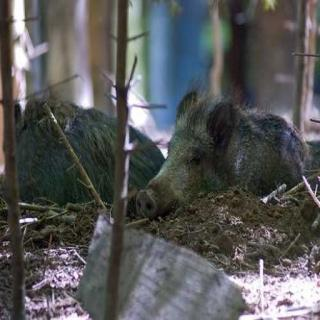Pig: (143, 95, 320, 246)
